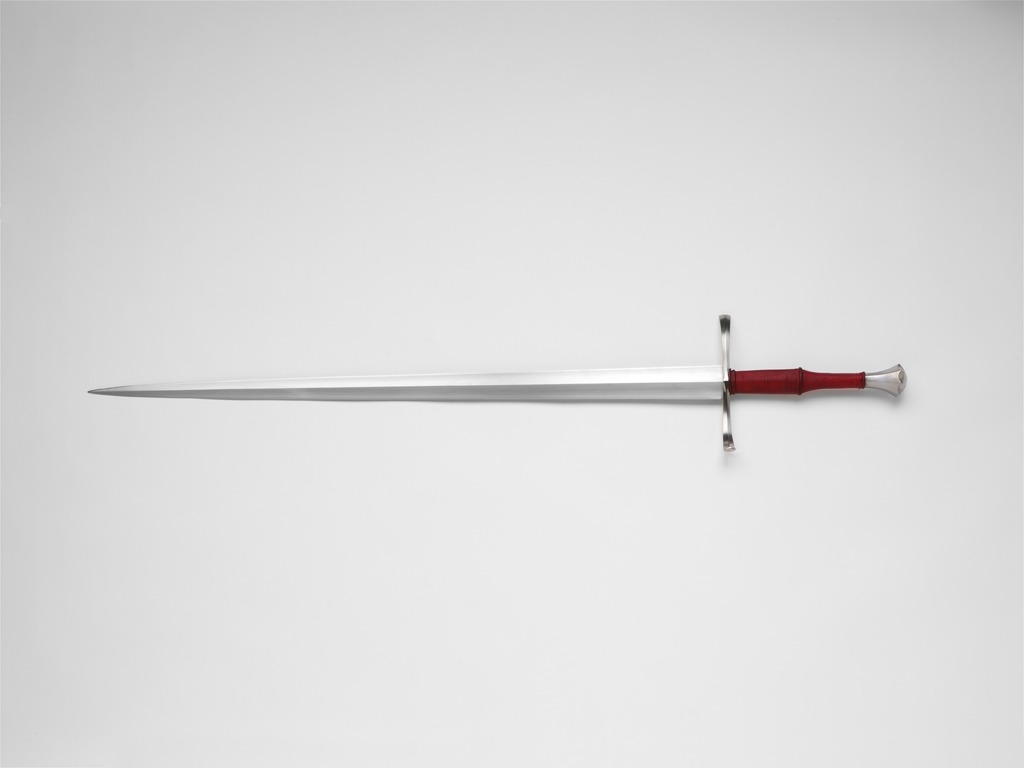sword: (92, 309, 948, 472)
